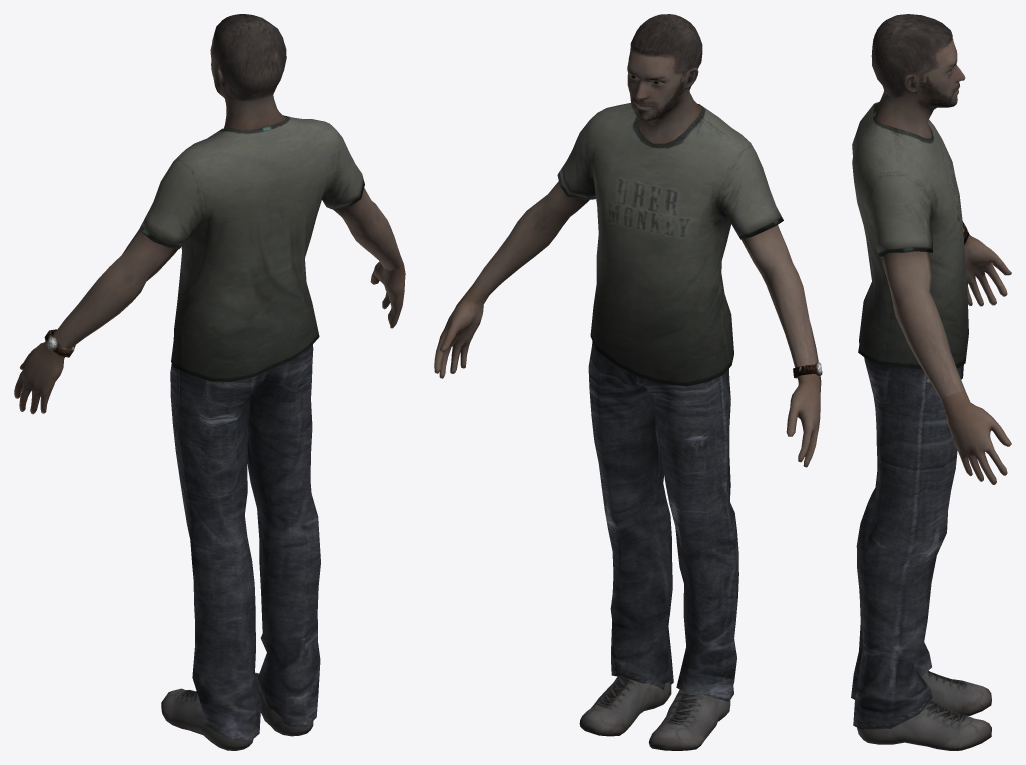
The model's file is protagonist.obj.
3 views of the same model, side by side, from view 1: azimuth 30°, elevation 25°; view 2: azimuth 150°, elevation 25°; view 3: azimuth 270°, elevation 25° (orthographic).
Bounding box in the file's own units: 0.998 × 1.78 × 0.3672.
